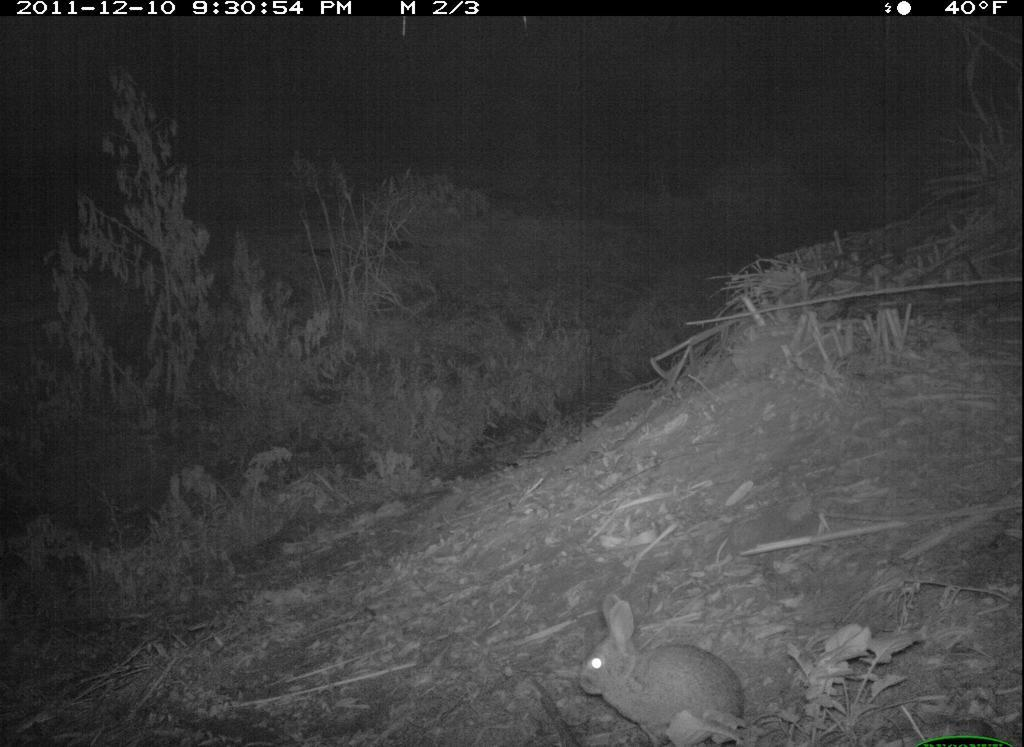rabbit: (565, 580, 762, 717)
